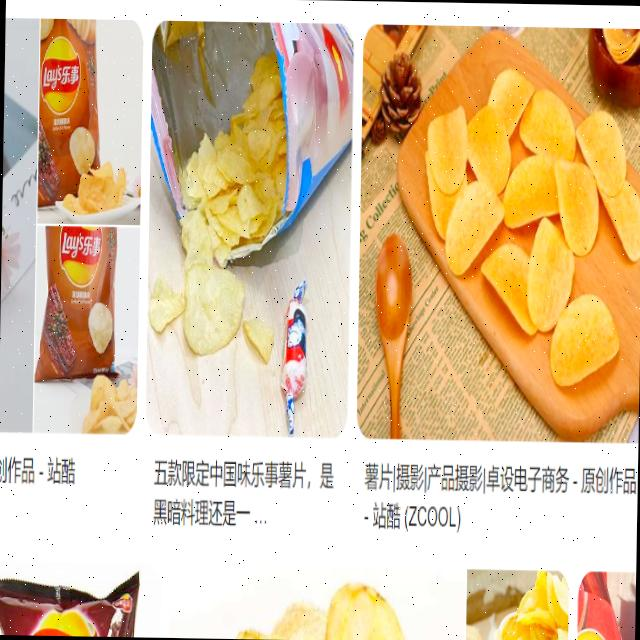lay-s_chip: (40, 35, 82, 116), (59, 216, 102, 286)
